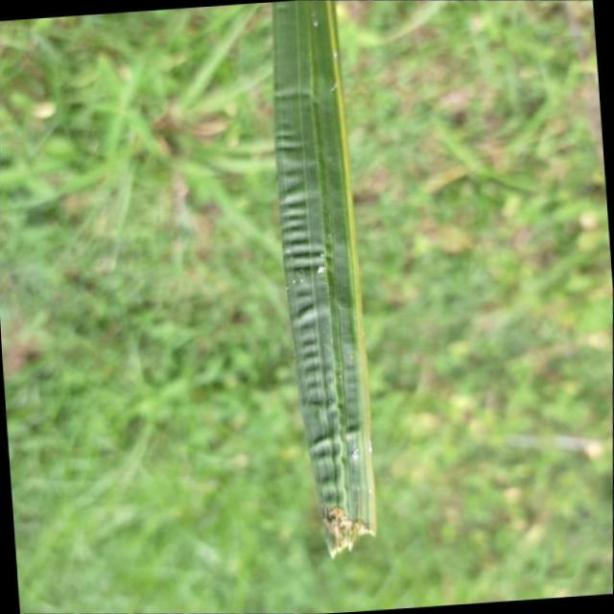Boron: (273, 0, 377, 567)
